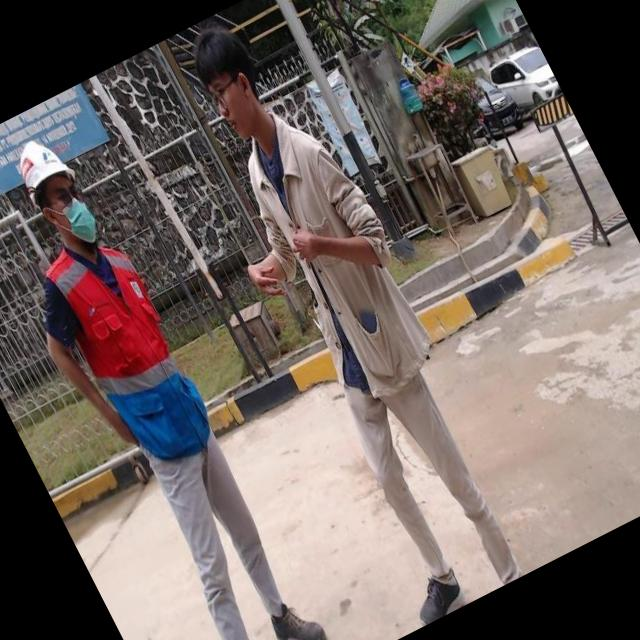hard_hat: (6, 128, 83, 210)
safety_vest: (35, 220, 224, 476)
vehicle: (120, 0, 563, 634), (0, 96, 376, 640)
work_boots: (402, 564, 472, 628), (264, 592, 334, 640)
